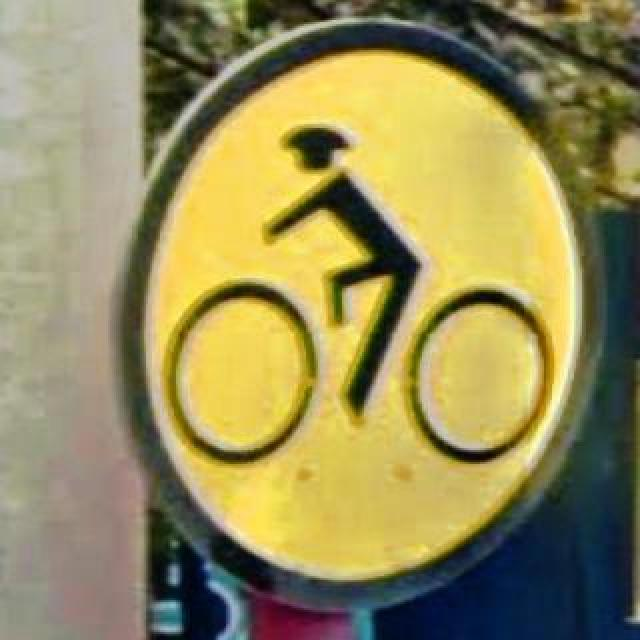bike lane: (108, 16, 604, 608)
